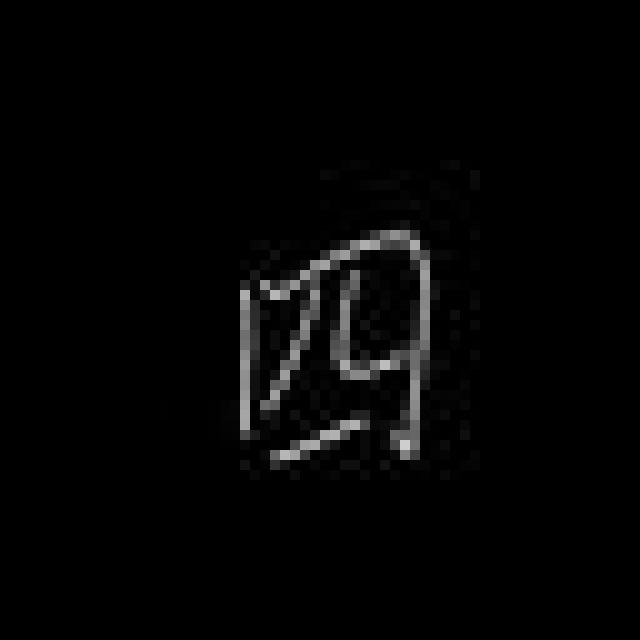4 -four-: (218, 210, 442, 492)
